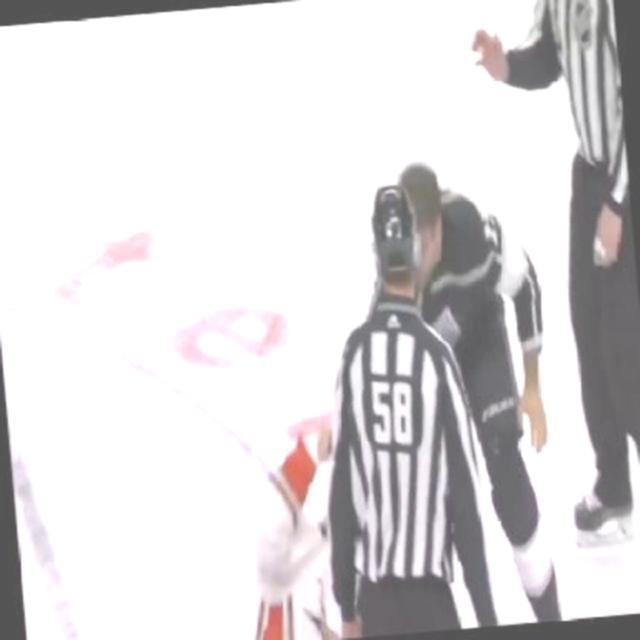fight: (218, 151, 576, 638)
